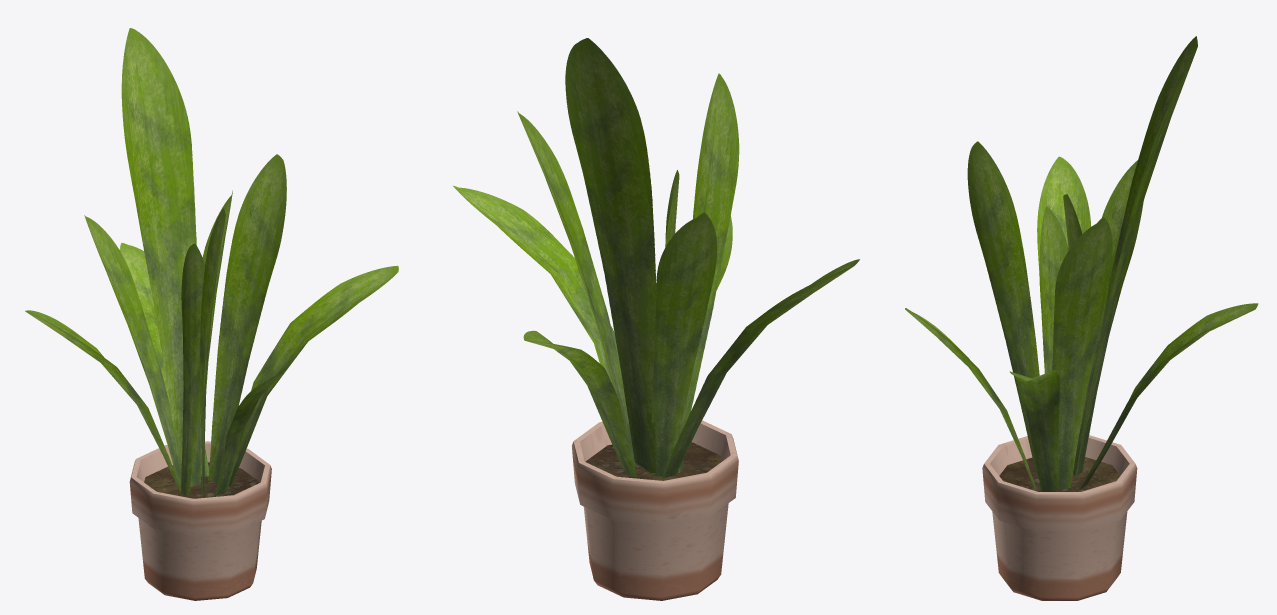
The model's file is Plant Pot.fbx.
3 views of the same model, side by side, from view 1: azimuth 30°, elevation 25°; view 2: azimuth 150°, elevation 25°; view 3: azimuth 270°, elevation 25° (orthographic). The views are drawn at different scales.
Visible parts, largest first — view 1: Plant_Pot; view 2: Plant_Pot; view 3: Plant_Pot.
Boxes of the visible parts, box(x1,y1,x2,y2) form: Plant_Pot: box(25, 28, 398, 600); Plant_Pot: box(453, 38, 859, 600); Plant_Pot: box(905, 36, 1258, 600).
Size of the model in its own units: 20.42 by 27.28 by 16.37.
1 material, 1 textured.
